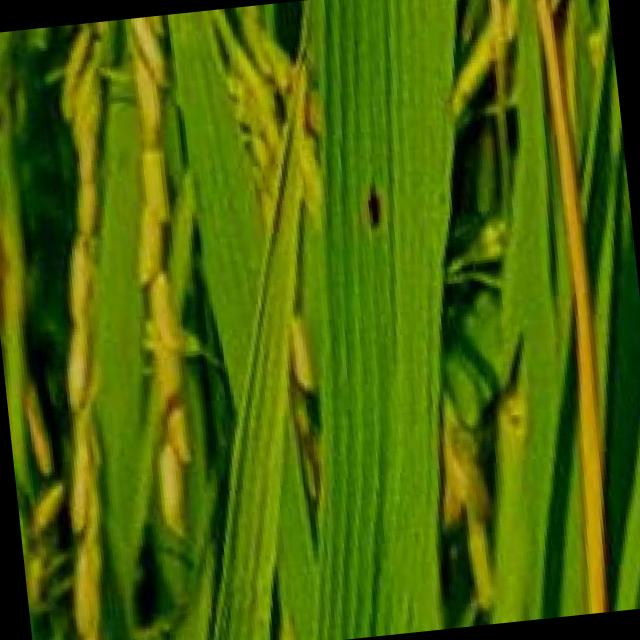Rice_Brownspot: (345, 166, 400, 240)
